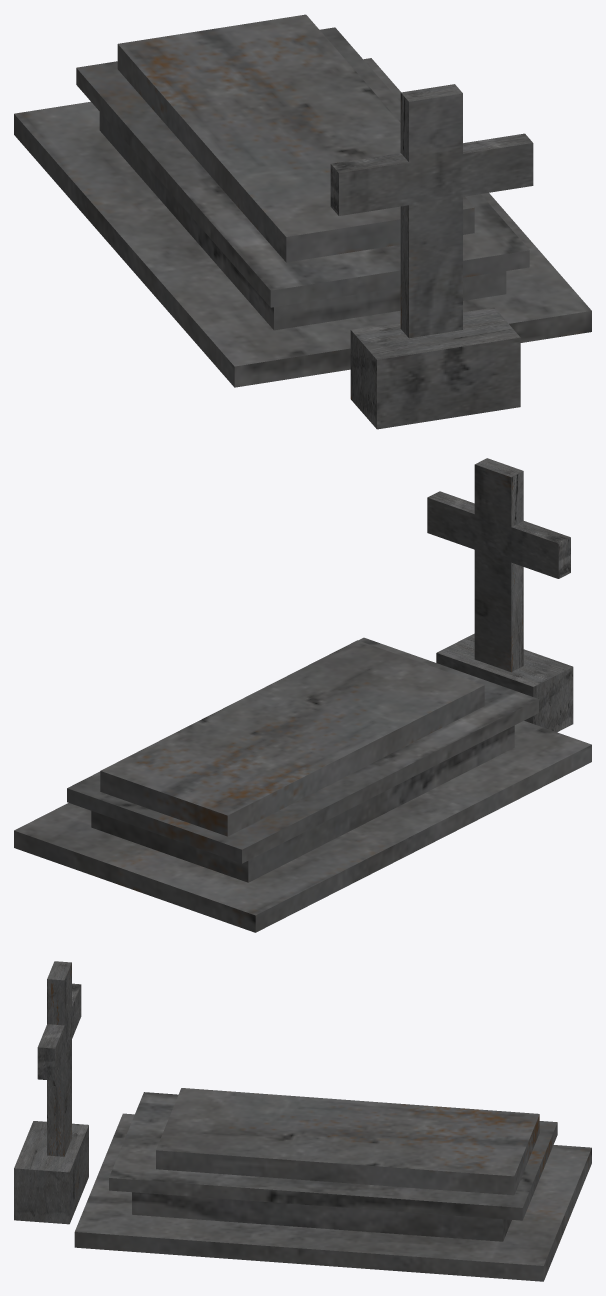
Rendered from Tumba2.obj.
3 renders of one model, top to bottom at view 1: azimuth 30°, elevation 25°; view 2: azimuth 150°, elevation 25°; view 3: azimuth 270°, elevation 25°, orthographic. The views are drawn at different scales.
Parts seen in each view (by area): view 1: Cube.008_Cube.010; view 2: Cube.008_Cube.010; view 3: Cube.008_Cube.010.
Boxes of the visible parts, left/top/right/bottom form: Cube.008_Cube.010: left=14, top=14, right=591, bottom=429; Cube.008_Cube.010: left=14, top=458, right=591, bottom=932; Cube.008_Cube.010: left=14, top=961, right=591, bottom=1281.
Size of the model in its own units: 2.44 by 1.7 by 3.91.
Materials: 1 (1 with a texture image).
